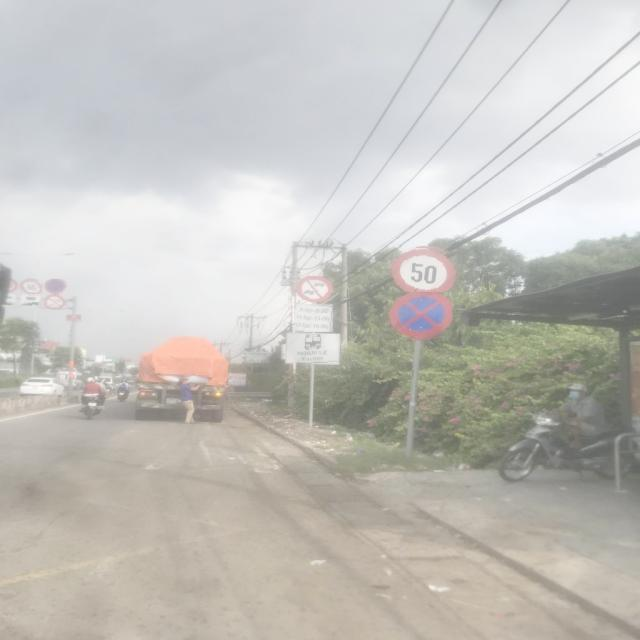cam_dung_xe_va_do_xe: (386, 292, 452, 340), (46, 279, 68, 295)
cam_o_to_tai_va_xe_khach: (296, 274, 333, 302)
cam_xe_2_banh_va_xe_3_banh_co_dong_co: (44, 294, 66, 310)
khac: (286, 334, 341, 365), (295, 304, 333, 332), (21, 294, 41, 302), (20, 301, 40, 308)
toc_do_toi_da_50: (390, 245, 460, 293)
toc_do_toi_da_60: (21, 279, 42, 294)
